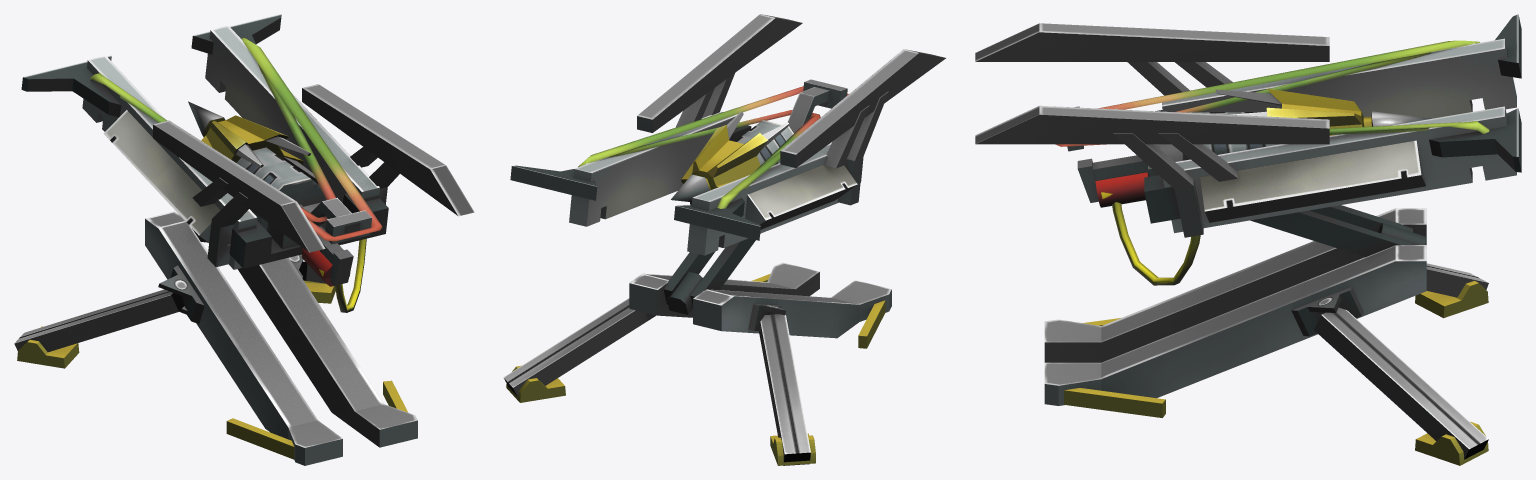
The model's file is trap_493_xbabal.fbx.
The picture shows the model from 3 angles, left to right: view 1: azimuth 30°, elevation 25°; view 2: azimuth 150°, elevation 25°; view 3: azimuth 270°, elevation 25°; orthographic projection. The views are drawn at different scales.
Parts seen in each view (by area): view 1: trap_493_xbabal; view 2: trap_493_xbabal; view 3: trap_493_xbabal.
Part boxes in pixels (bbox=[...]): trap_493_xbabal: bbox=[14, 14, 474, 465]; trap_493_xbabal: bbox=[503, 14, 945, 465]; trap_493_xbabal: bbox=[975, 14, 1521, 465].
Size of the model in its own units: 0.8624 by 0.6994 by 1.12.
Materials: 1 (1 with a texture image).
